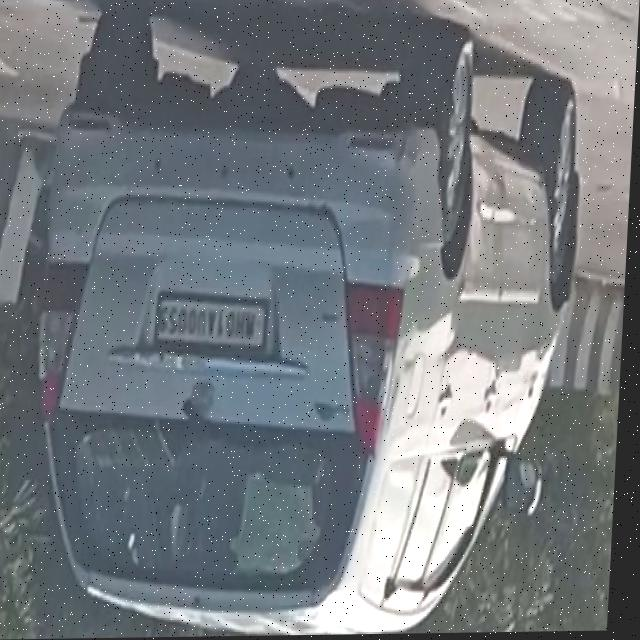plate: (156, 291, 276, 358)
